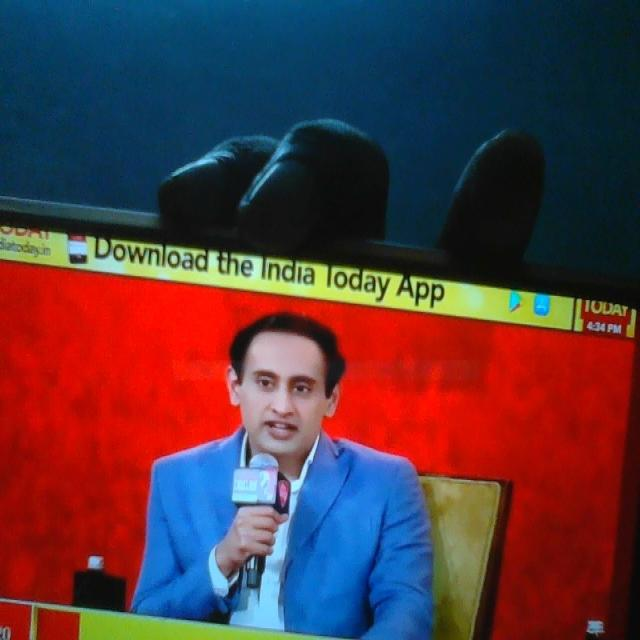fake: (227, 292, 335, 496)
